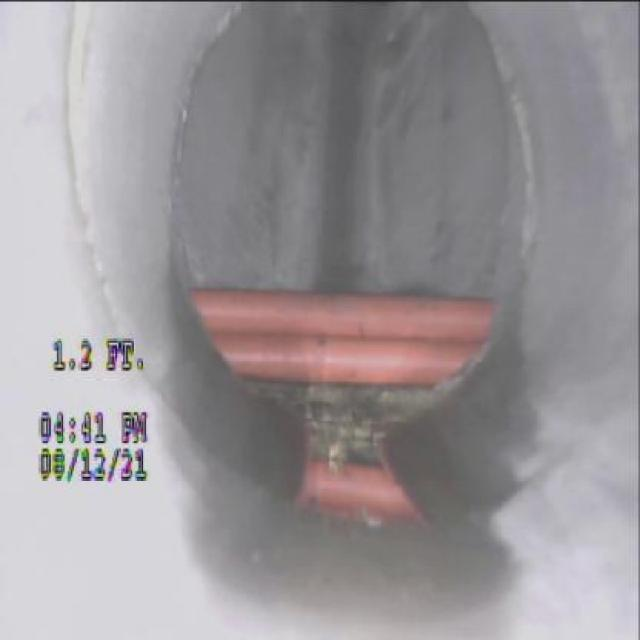Utility intrusion: (186, 280, 503, 395), (275, 450, 437, 528)
